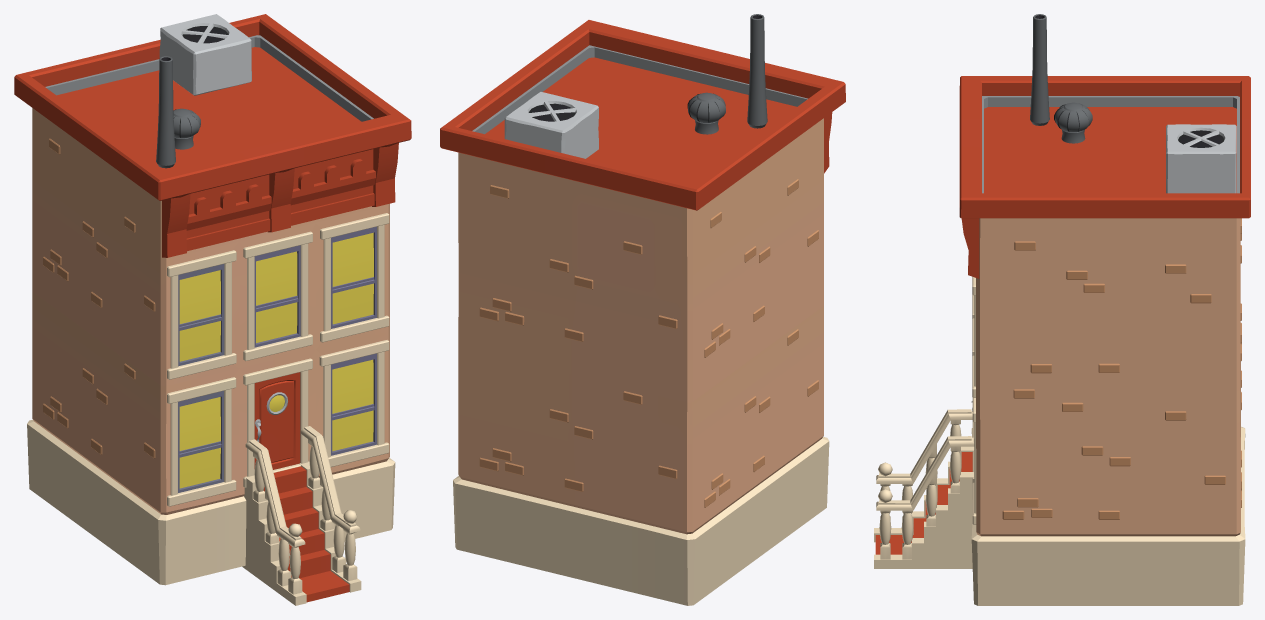
Rendered from city.glb.
The picture shows the model from 3 angles, left to right: view 1: azimuth 30°, elevation 25°; view 2: azimuth 150°, elevation 25°; view 3: azimuth 270°, elevation 25°; orthographic projection. The views are drawn at different scales.
Visible parts, largest first — view 1: CITY; view 2: CITY; view 3: CITY.
Boxes of the visible parts, <box> form: CITY: <box>14,14,411,605</box>; CITY: <box>440,14,845,605</box>; CITY: <box>874,14,1250,605</box>.
Bounding box in the file's own units: 2.01 × 3.78 × 2.6.
1 material, 1 textured.
